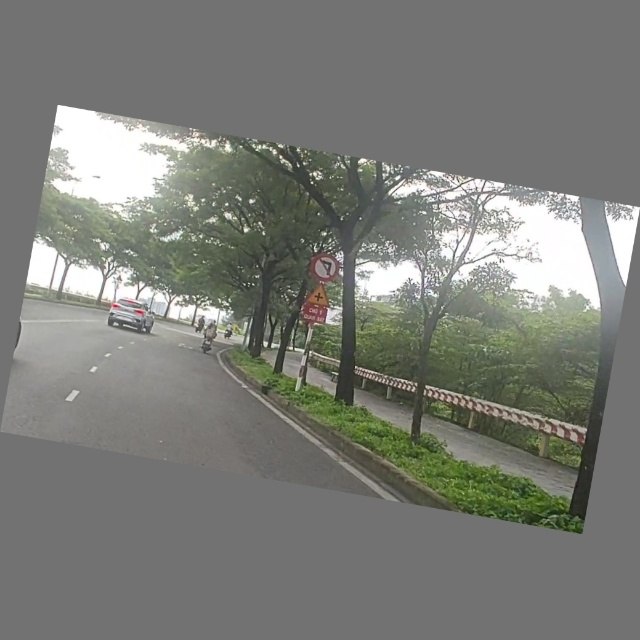P.123a: (310, 250, 343, 286)
W.205a: (300, 278, 337, 310)
